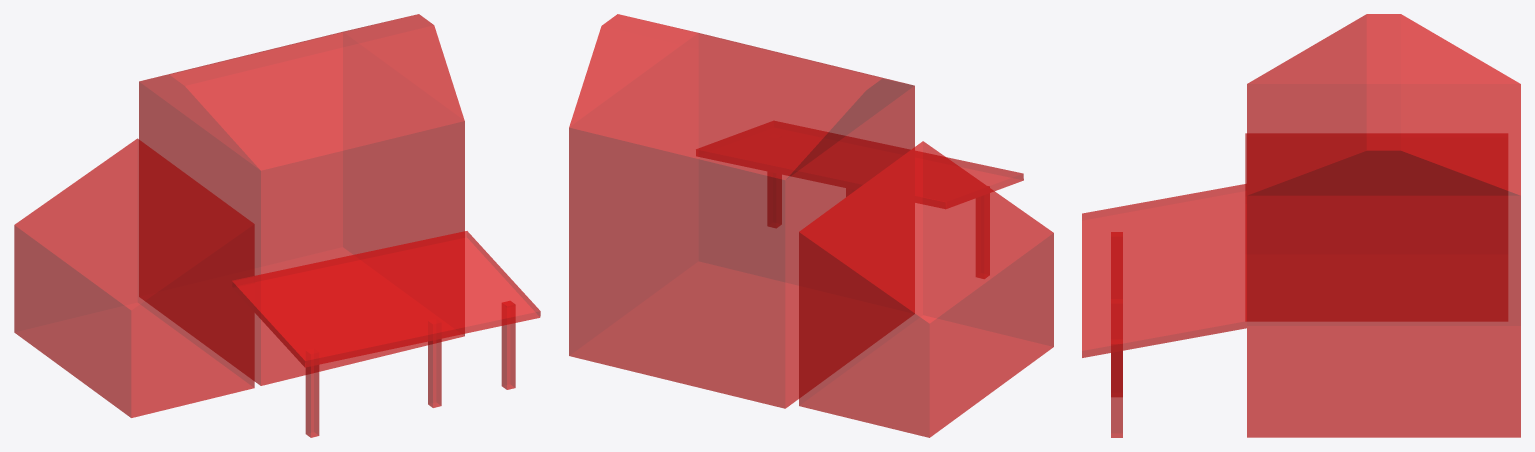
File: SM_Bld_Shanty_Preset_02_Collision.fbx
3 views of the same model, side by side, from view 1: azimuth 30°, elevation 25°; view 2: azimuth 150°, elevation 25°; view 3: azimuth 270°, elevation 25° (orthographic). The views are drawn at different scales.
Parts seen in each view (by area): view 1: SM_Bld_Shanty_Preset_02_Collision; view 2: SM_Bld_Shanty_Preset_02_Collision; view 3: SM_Bld_Shanty_Preset_02_Collision.
Boxes of the visible parts, x1,y1,x2,y2 form: SM_Bld_Shanty_Preset_02_Collision: [14, 14, 540, 437]; SM_Bld_Shanty_Preset_02_Collision: [569, 14, 1053, 437]; SM_Bld_Shanty_Preset_02_Collision: [1082, 14, 1520, 437].
Size of the model in its own units: 878 by 639 by 833.
